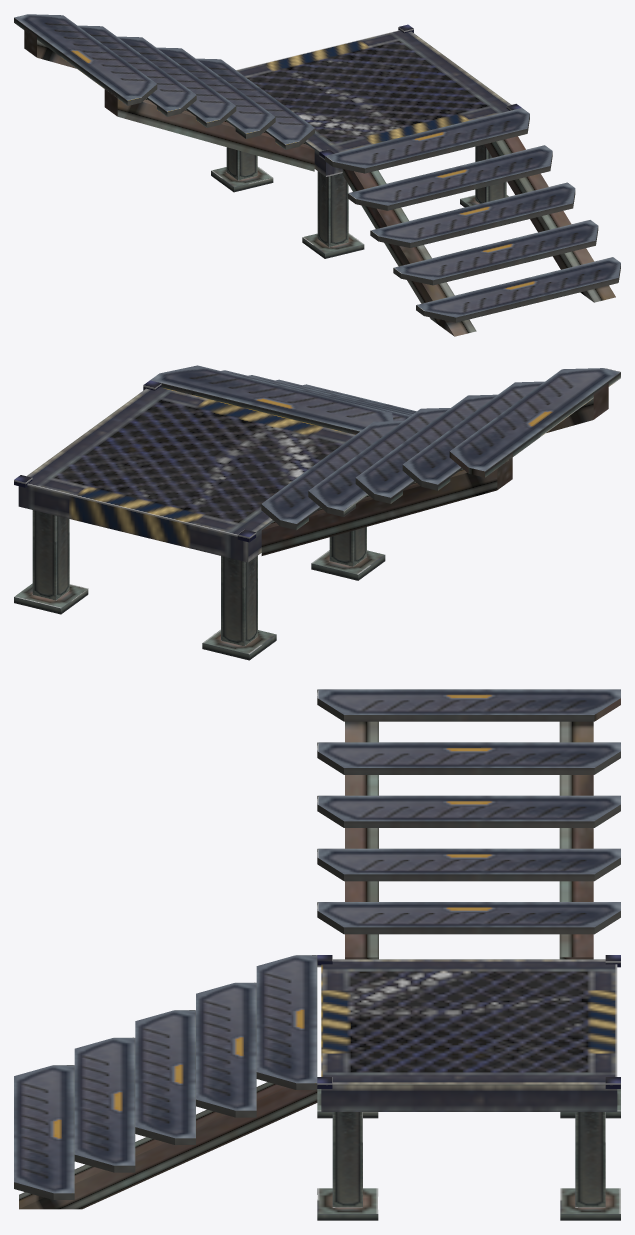
Rendered from MO_METAL_STAIRS_03.fbx.
3 views of the same model, one above another, from view 1: azimuth 30°, elevation 25°; view 2: azimuth 150°, elevation 25°; view 3: azimuth 270°, elevation 25° (orthographic). The views are drawn at different scales.
Parts seen in each view (by area): view 1: MO_METAL STAIRS_03; view 2: MO_METAL STAIRS_03; view 3: MO_METAL STAIRS_03.
Part boxes in pixels (bbox=[...]): MO_METAL STAIRS_03: bbox=[14, 14, 620, 336]; MO_METAL STAIRS_03: bbox=[14, 365, 620, 660]; MO_METAL STAIRS_03: bbox=[14, 689, 620, 1220].
Size of the model in its own units: 4 by 2 by 4.
